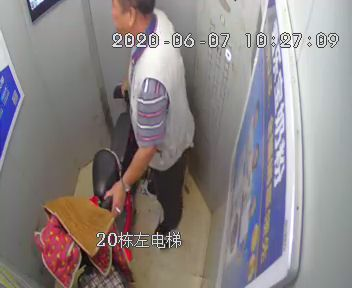Electric-bicycle: (42, 81, 137, 286)
